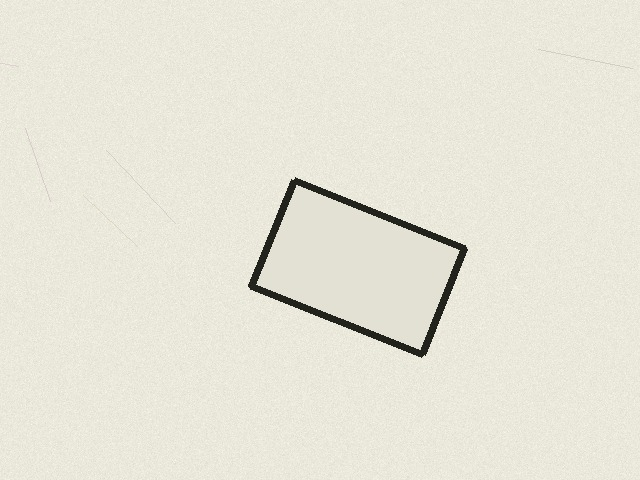parking_area: (251, 180, 464, 354)
